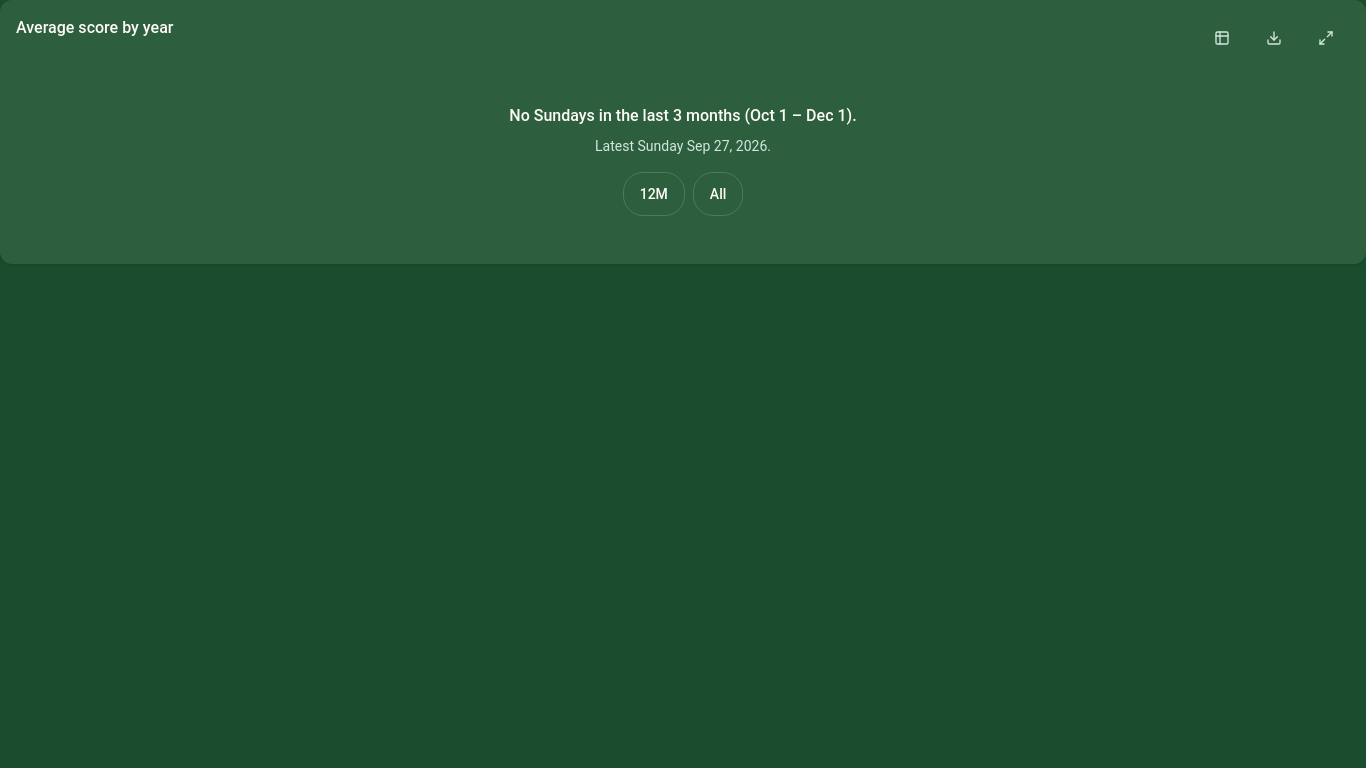
it: ChartFrame › the time window (DF-1) › with no rows in the window › keeps Table, CSV and Fullscreen reachable, and Fullscreen shows every row
The width and height of the screenshot is (1366, 768).
Expected: the button named "CSV" is shown, left=1250, top=16, right=1298, bottom=60
Expected: the heading "No Sundays in the last 3 months (Oct 1 – Dec 1)." is shown, left=509, top=104, right=857, bottom=128
Click the button named "Table" at {"x": 1222, "y": 38}, box left=1198, top=16, right=1246, bottom=60
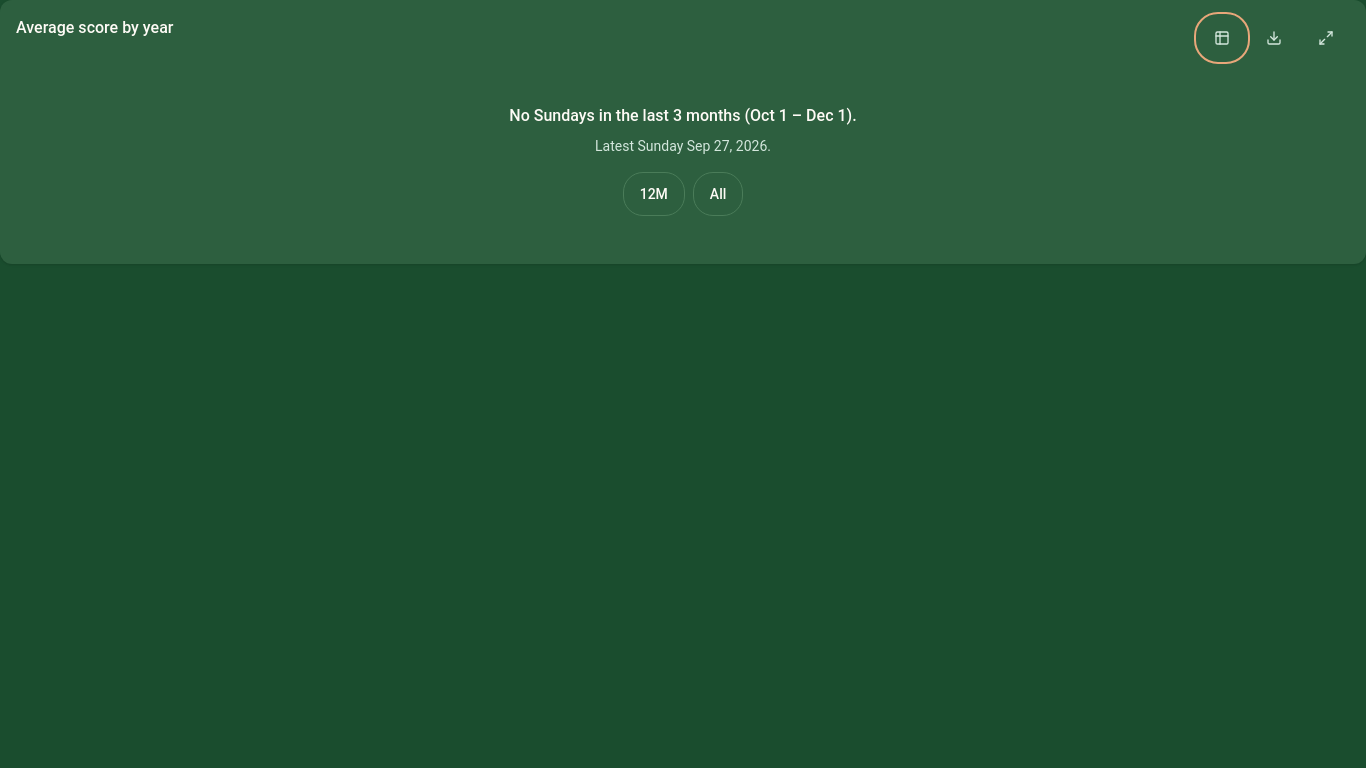
Click the button named "Fullscreen" at {"x": 1326, "y": 38}, box left=1302, top=16, right=1350, bottom=60
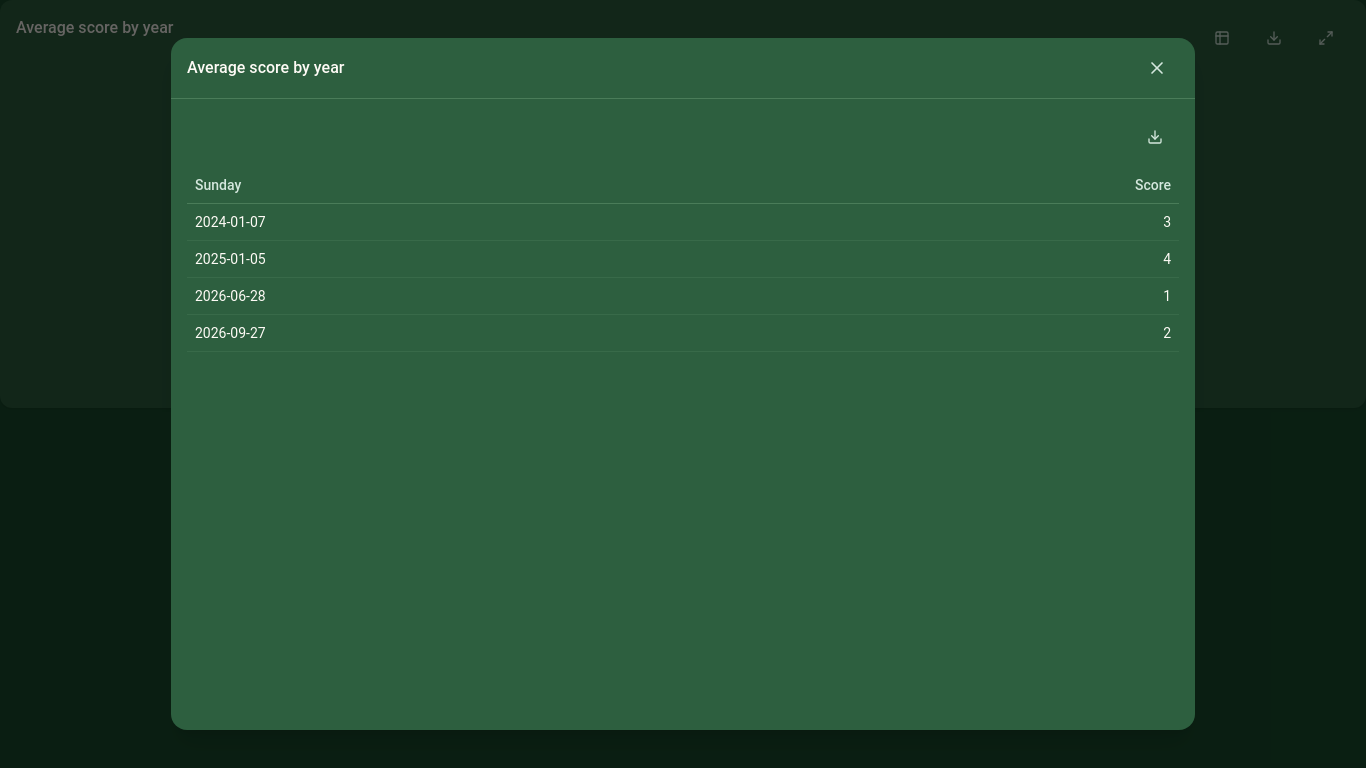
Expected: the number of rows is 5, left=187, top=167, right=1179, bottom=204; left=187, top=204, right=1179, bottom=241; left=187, top=241, right=1179, bottom=278; left=187, top=278, right=1179, bottom=315; left=187, top=315, right=1179, bottom=352
